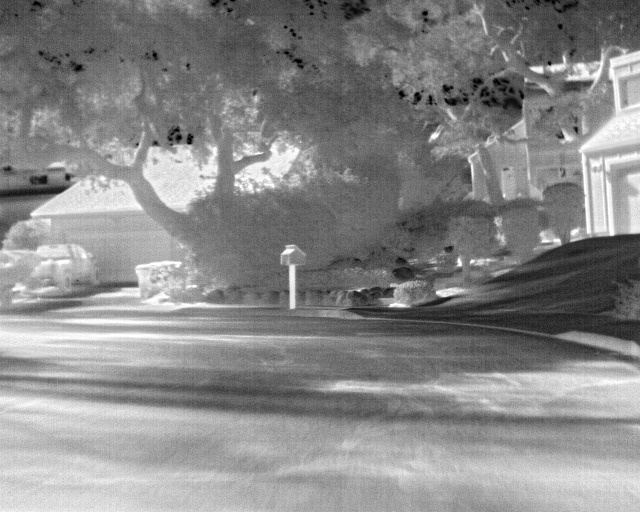vehicle: (30, 243, 101, 297)
